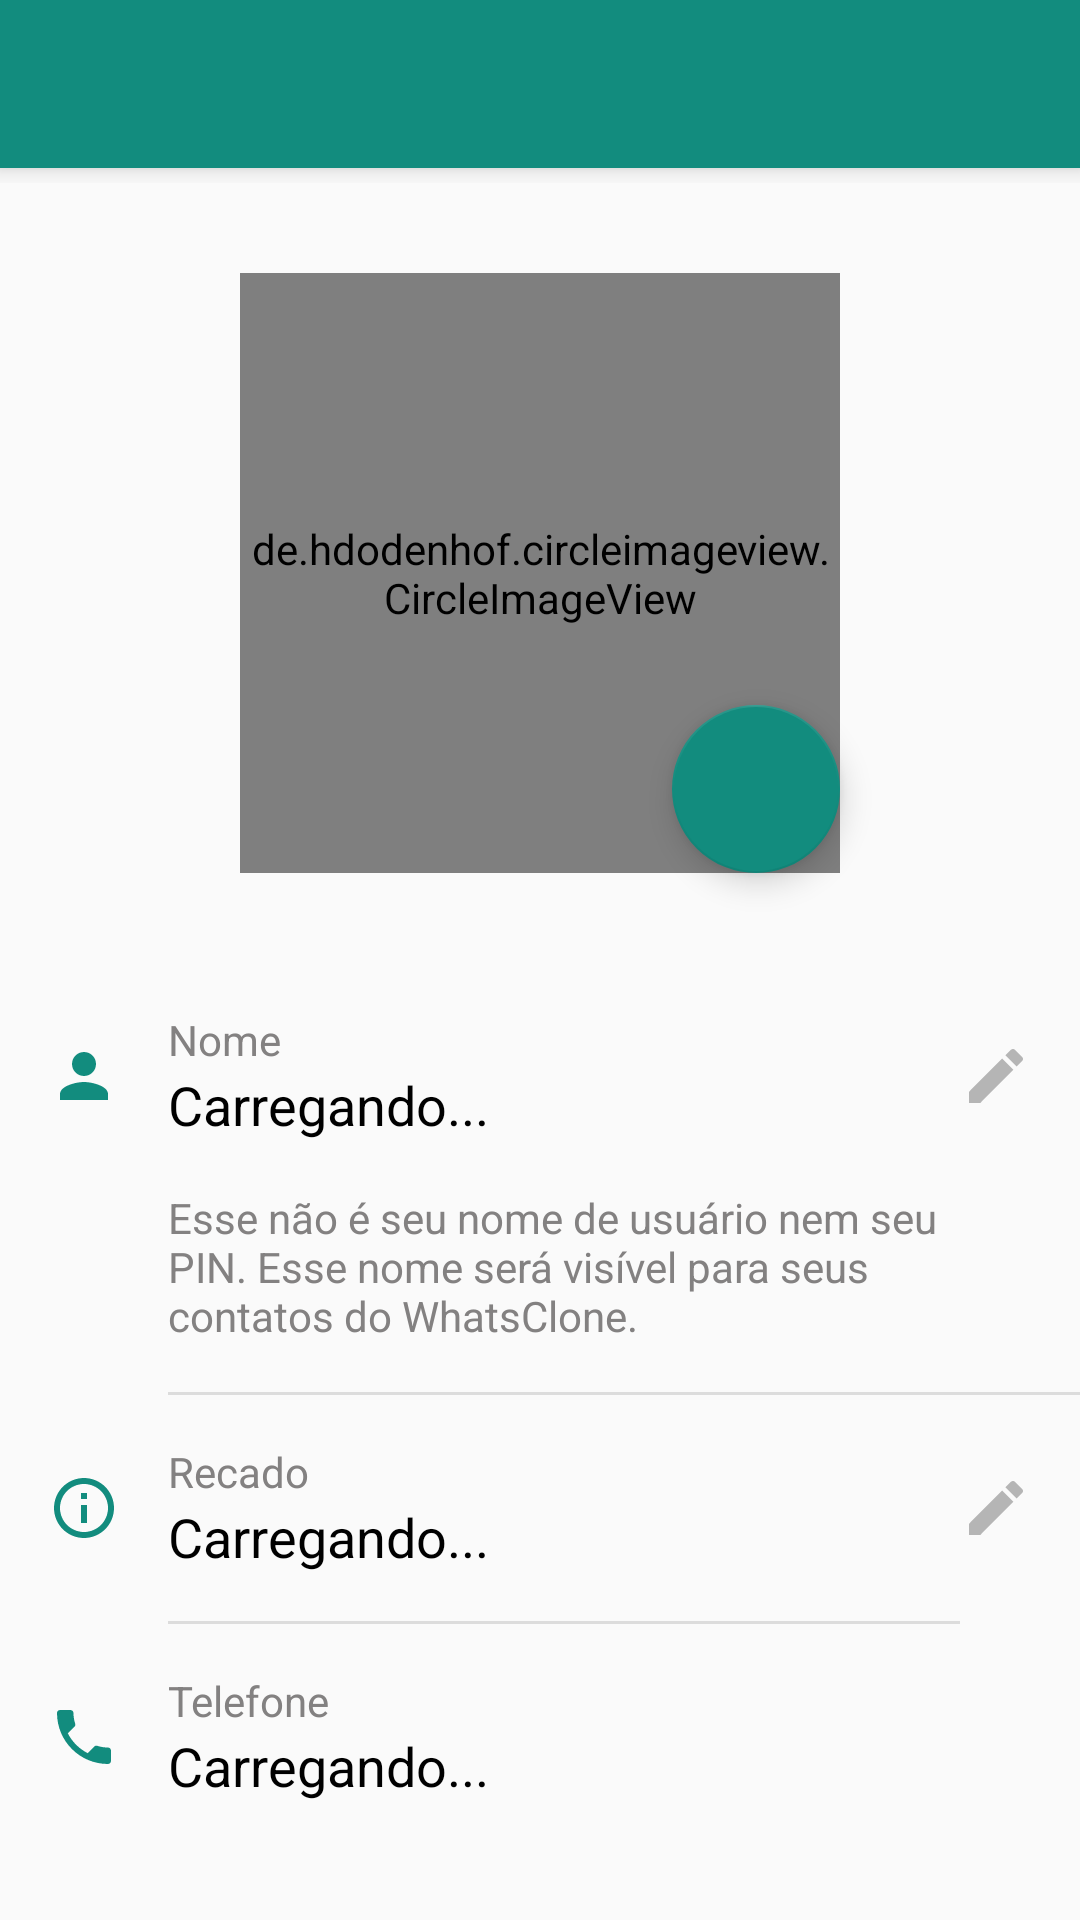

Where to tap for icons on this 1080px×1920px app screen, as point (x, y):
editar: point (996, 1076), point (996, 1508)
info: point (84, 1508)
person: point (84, 1076)
